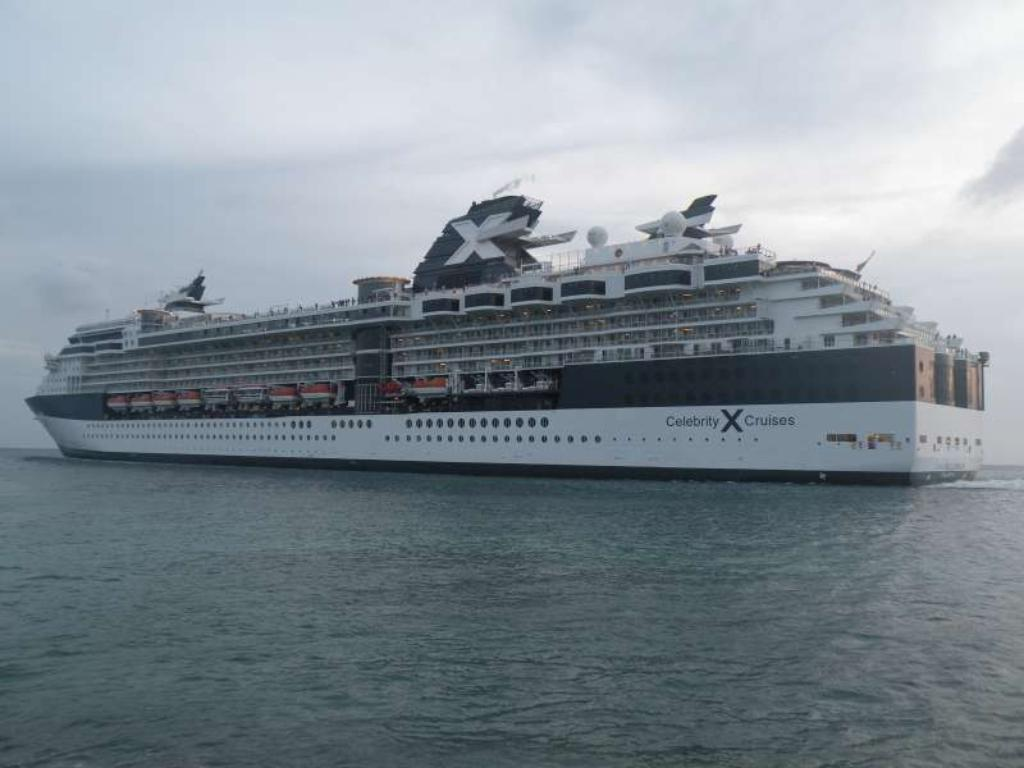PassengerShip: (13, 182, 1001, 496)
